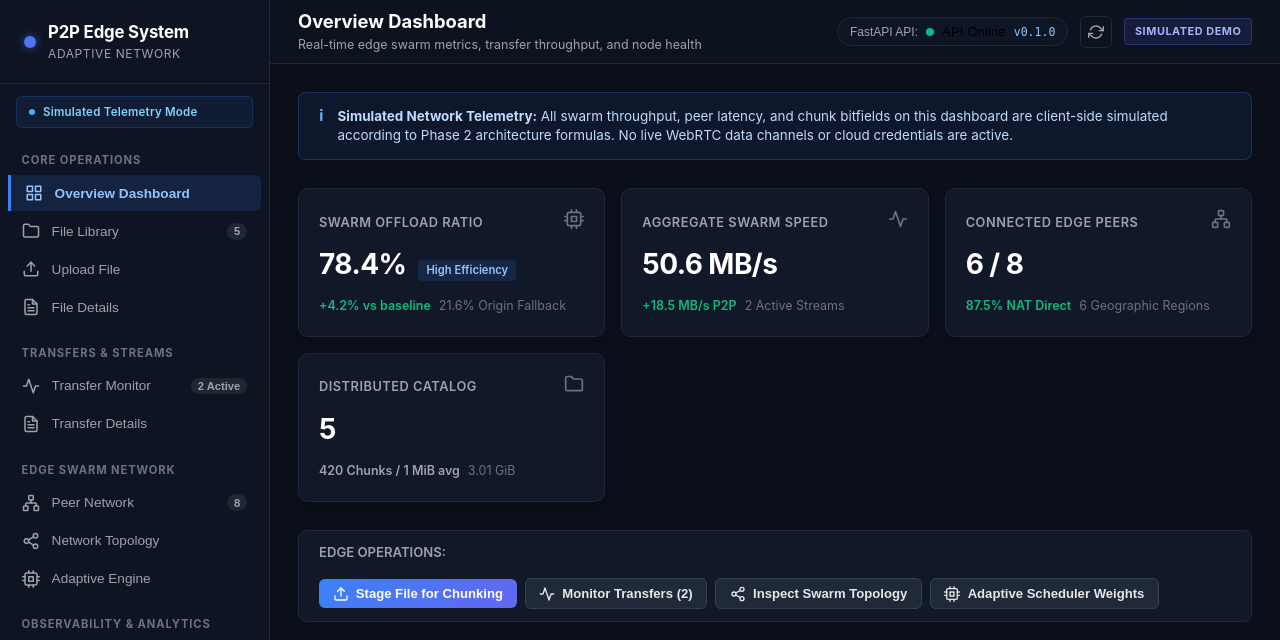
it: Intelligent P2P Edge Frontend - Phase 3 Navigation & UI › navigates to Network Topology and renders SVG graph
Click the button "Network Topology" at (134, 541), box [8,523,261,558]
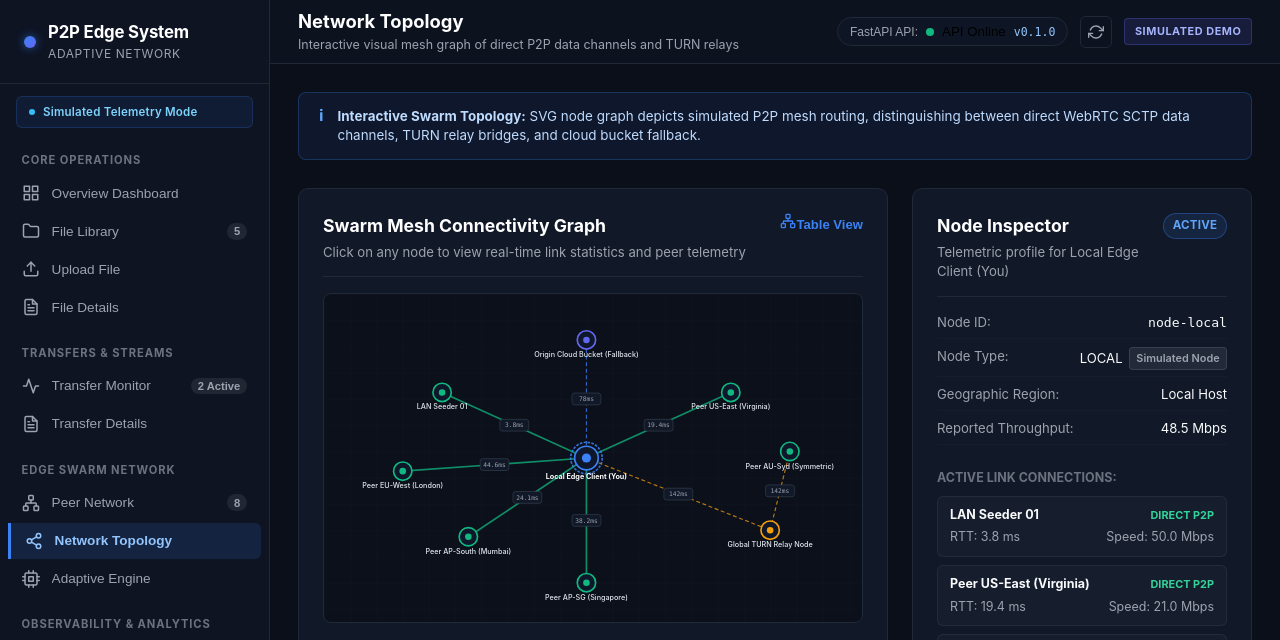
Expected: the heading "Swarm Mesh Connectivity Graph" is shown, [323,215,606,236]
Expected: the picture named "network topology diagram" is shown, [323,293,863,623]
